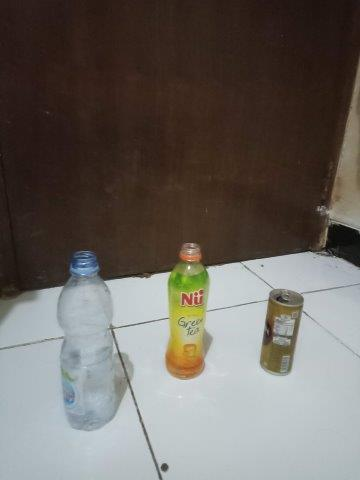botolplastik: (56, 249, 117, 433), (167, 242, 211, 380)
kaleng: (260, 288, 304, 377)
